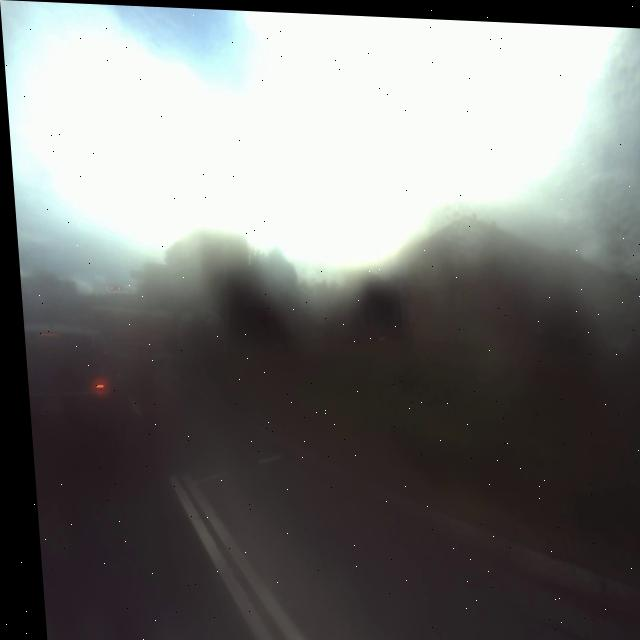car: (18, 303, 118, 489)
